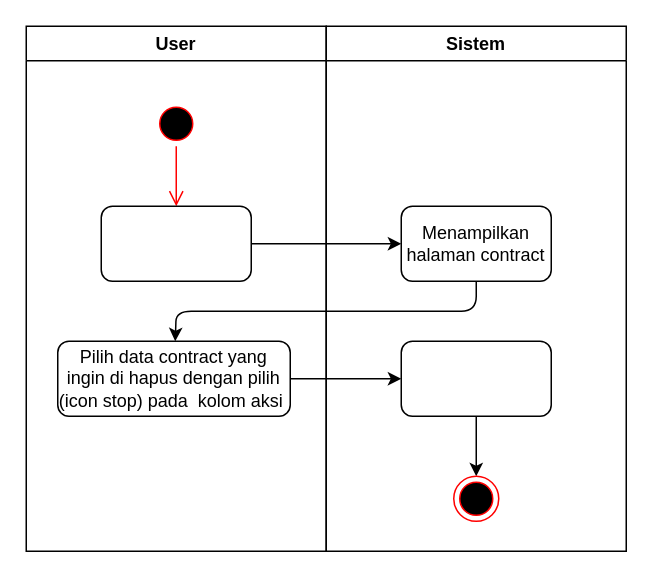
The diagram is 653 pixels wide and 578 high, and some of its shapes have lost their labels. Here are the shapes that lost their labels. From the top down, the centre of each, then its label:
At point (175, 243): "Pilih fitur contract".
At point (475, 378): "Perubahan data tersimpan".
